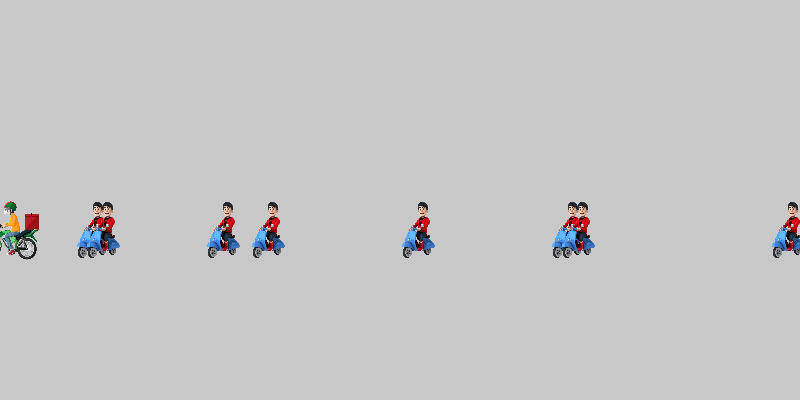helmet: (0, 200, 40, 260)
no_helmet: (65, 200, 125, 260), (75, 200, 135, 260), (195, 200, 255, 260), (240, 200, 300, 260), (390, 200, 450, 260), (540, 200, 600, 260), (550, 200, 610, 260), (760, 200, 800, 260)
